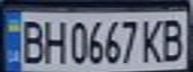0: (66, 17, 87, 65)
6: (103, 17, 124, 65), (87, 17, 106, 65)
7: (121, 16, 142, 64)
B: (15, 16, 48, 65), (160, 16, 190, 63)
H: (39, 16, 69, 65)
K: (139, 16, 166, 64)
